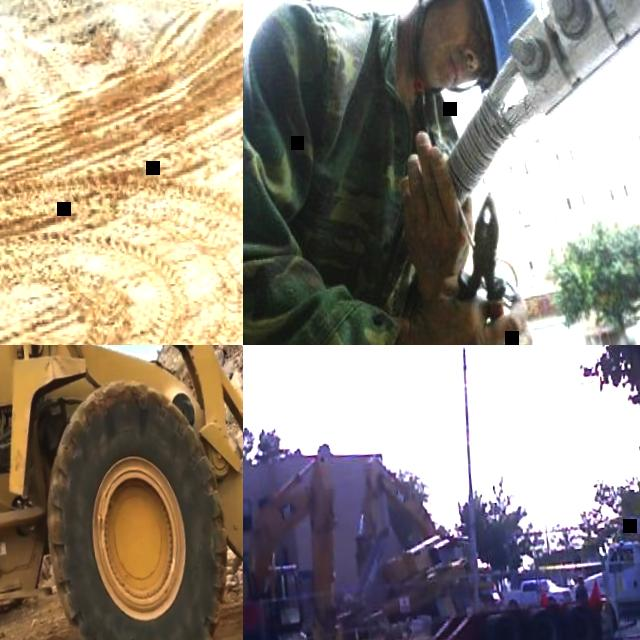Hardhat: (434, 0, 541, 92)
NO-Hardhat: (575, 575, 582, 584)
NO-Mask: (416, 2, 465, 90)
NO-Safety Vest: (243, 0, 481, 345)
Person: (243, 0, 583, 345), (571, 575, 588, 607)
Safety Cone: (589, 580, 600, 605), (538, 584, 548, 608)
vehicle: (0, 345, 243, 640), (0, 0, 101, 345), (344, 444, 499, 633), (243, 441, 354, 640), (575, 510, 640, 638), (498, 575, 571, 613)
